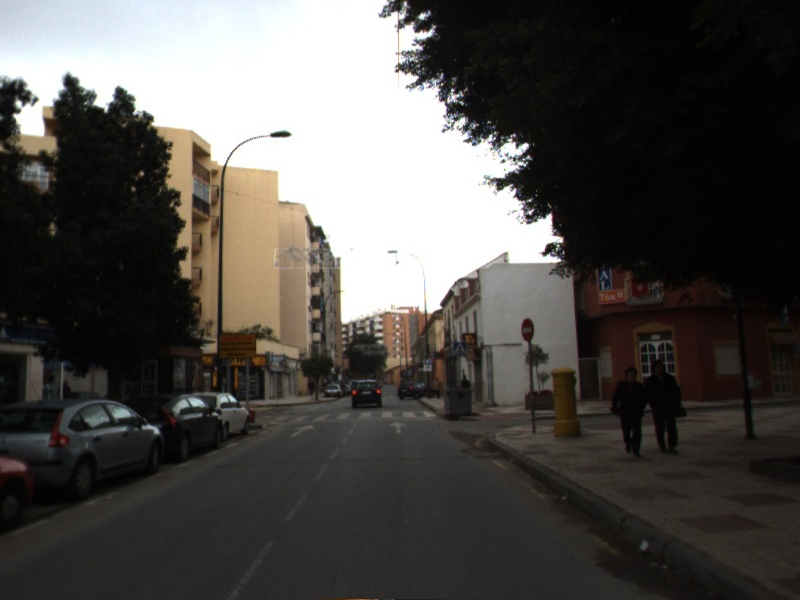STRAIGHT: (287, 422, 318, 439), (386, 420, 410, 435)
